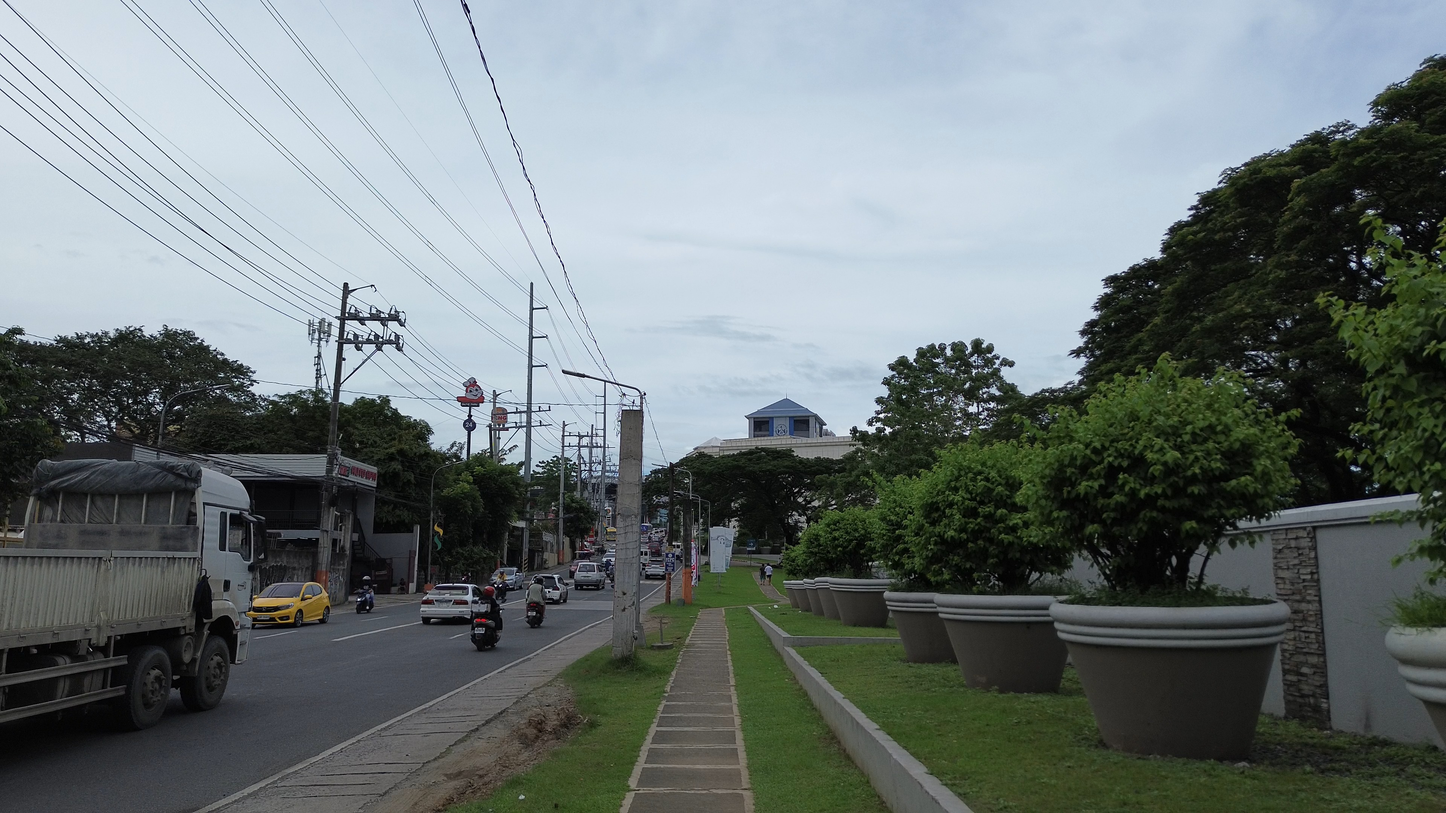car: (247, 582, 329, 626), (421, 583, 485, 624), (541, 574, 569, 603), (493, 567, 524, 589), (644, 560, 665, 579)
motorcycle: (470, 613, 500, 651), (525, 601, 545, 628), (355, 589, 374, 613)
truck: (0, 460, 264, 729)
vehicle: (469, 604, 500, 651), (573, 562, 606, 589), (355, 587, 374, 613), (605, 527, 616, 542)
